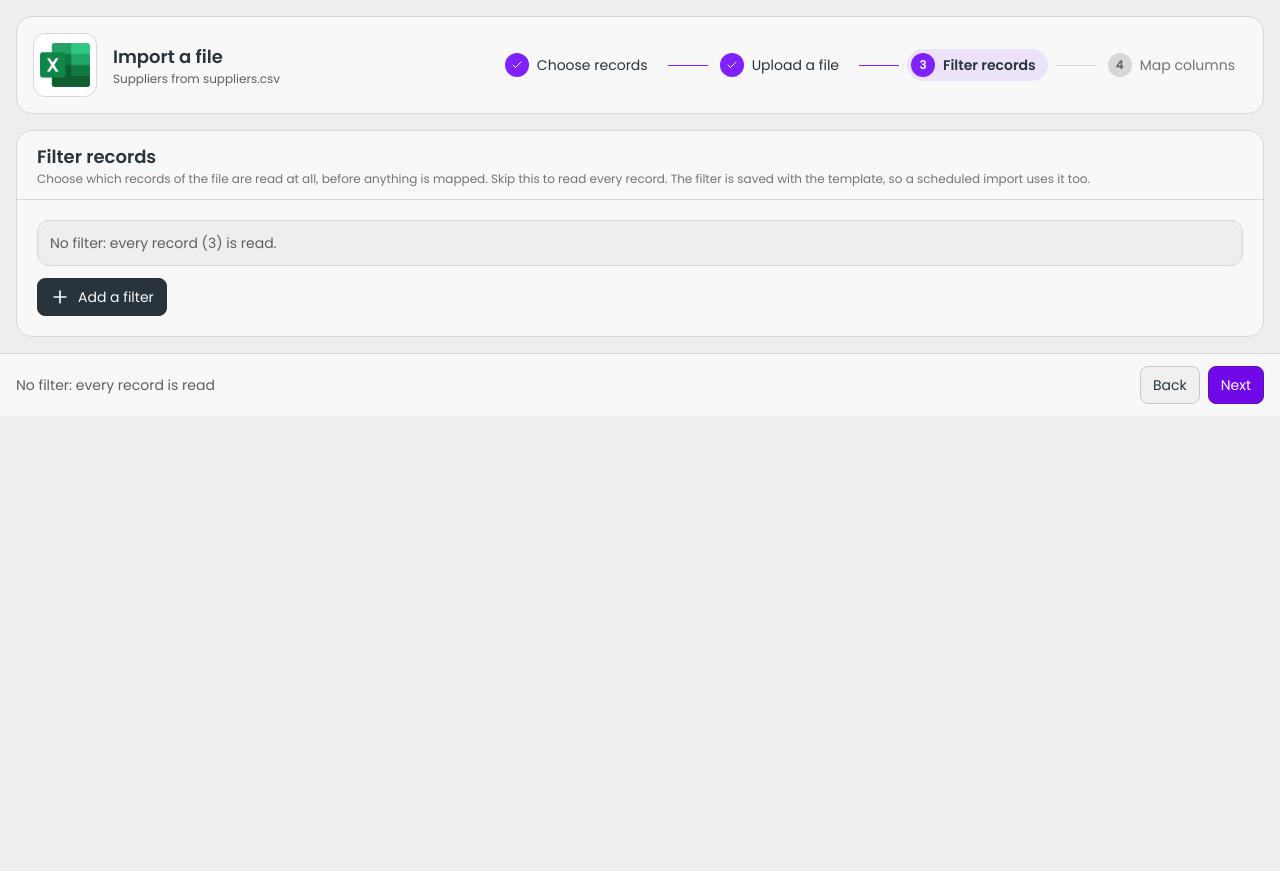
file import wizard › step 3: with no filter every record is read and Next goes to the mapping; nothing is asked of the server
Expected: the text "No filter: every record (3) is read." is shown, top-left (37, 220), bottom-right (1243, 266)
Step 1. Click the button "Next" → coordinates (1236, 385), box top-left (1208, 366), bottom-right (1264, 404)
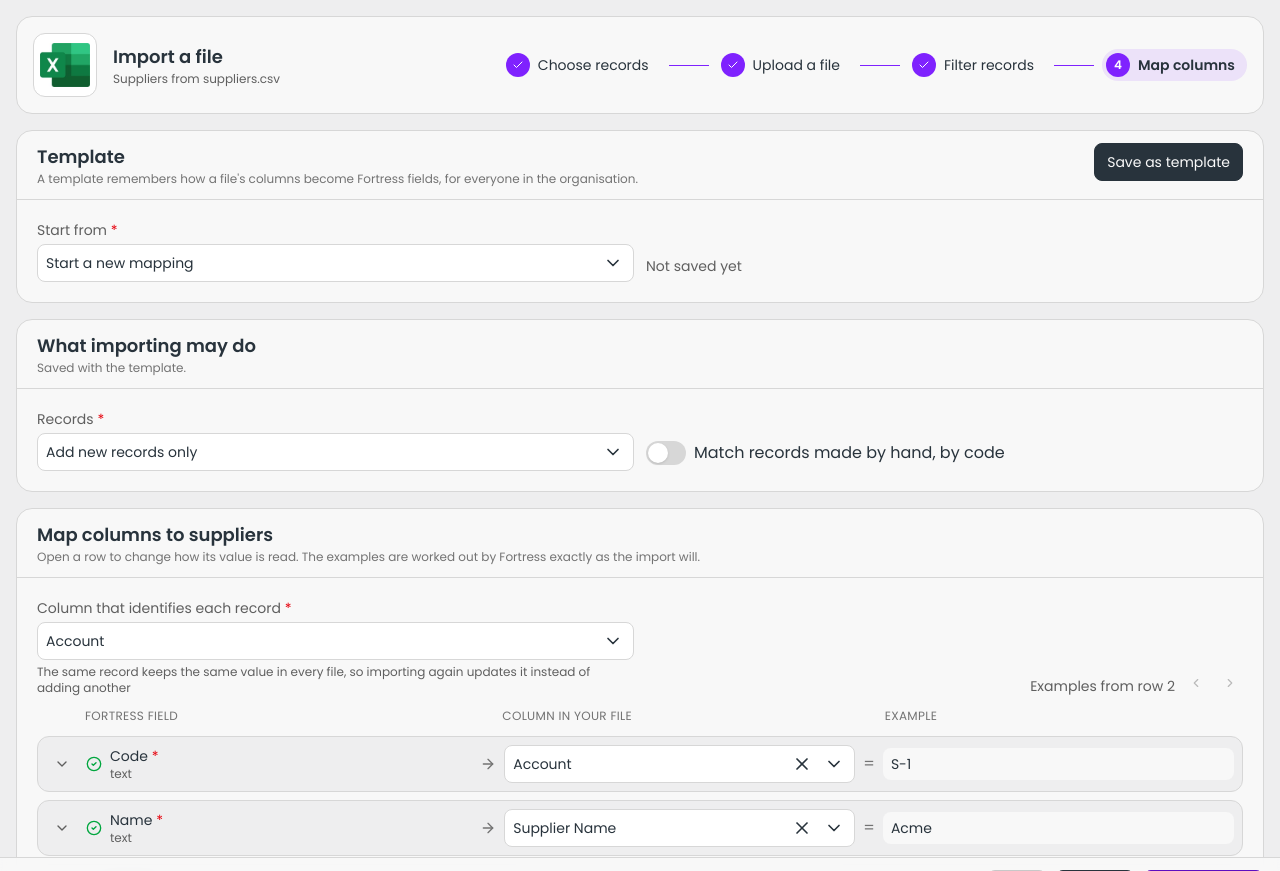
Now the list item "Code" is shown, box top-left (37, 736), bottom-right (1243, 792)
